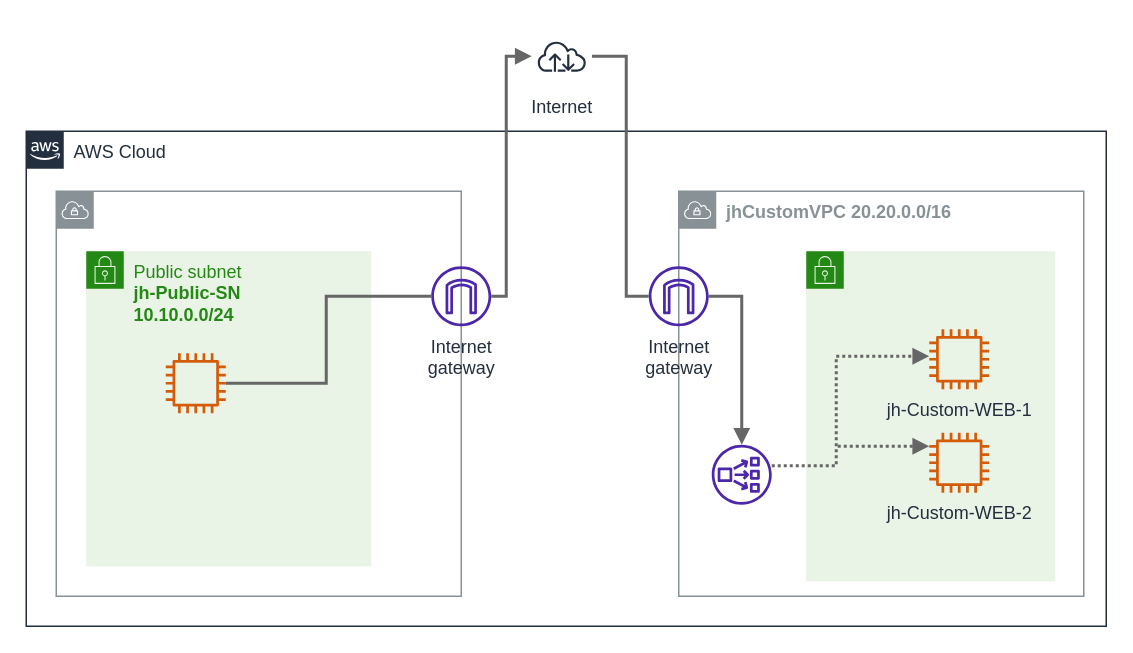
Image size: 1133x653. Some labels were removed from this diagram. The shapes that lost their labels are listed below. From the top down, each one's box as (x1, y1, x2, y2) in pixels, then its label:
(165, 352, 225, 412): jh-EC2
(55, 190, 461, 596): jhVPC 10.10.0.0/16
(805, 250, 1055, 581): Public subnet jh-Custom-Public-SN 20.20.0.0/24
(711, 444, 771, 504): NLB
